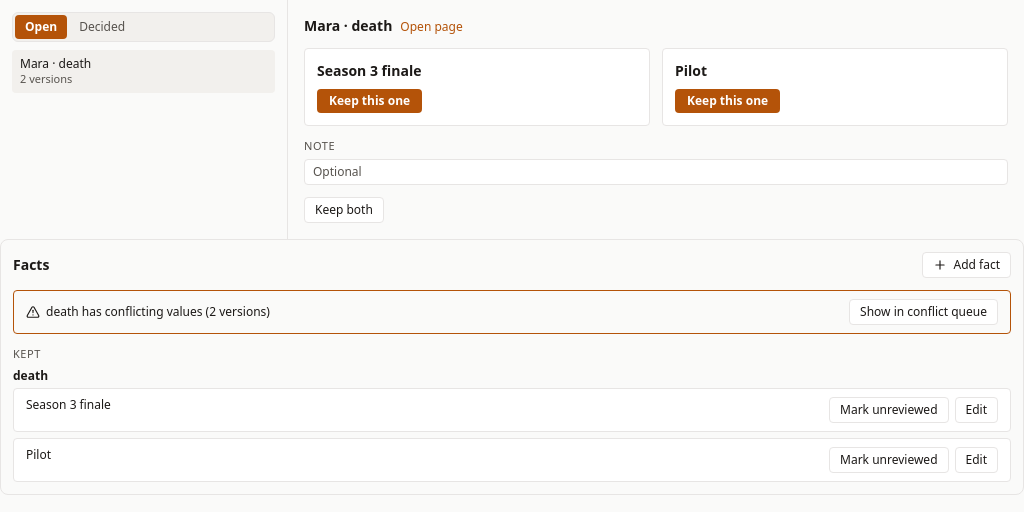
ConflictQueue › keeps both with a note and the entity page says so
The width and height of the screenshot is (1024, 512).
In the field labelled "Note": (656, 172) top-left (304, 158), bottom-right (1008, 184), type "branch"
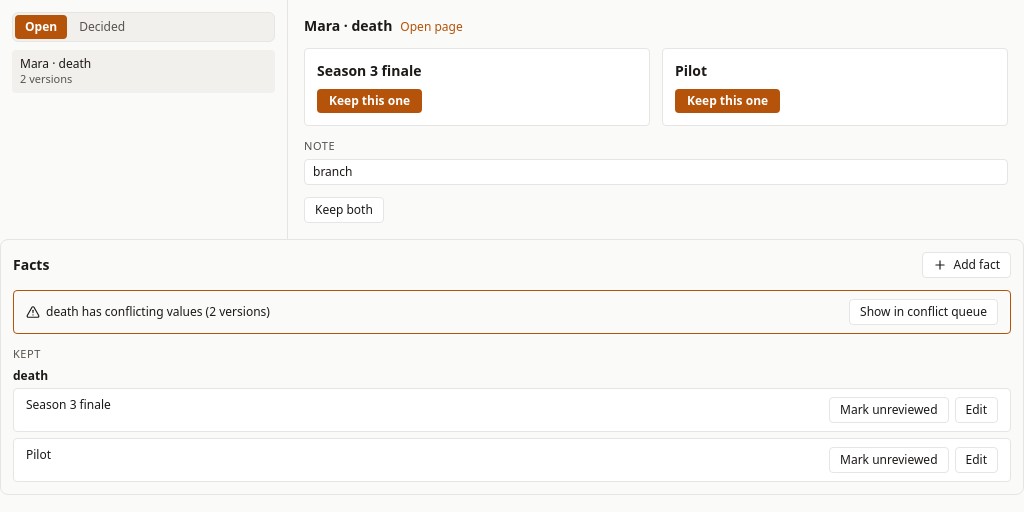
Click the button "Keep both": (344, 210) top-left (304, 196), bottom-right (384, 222)
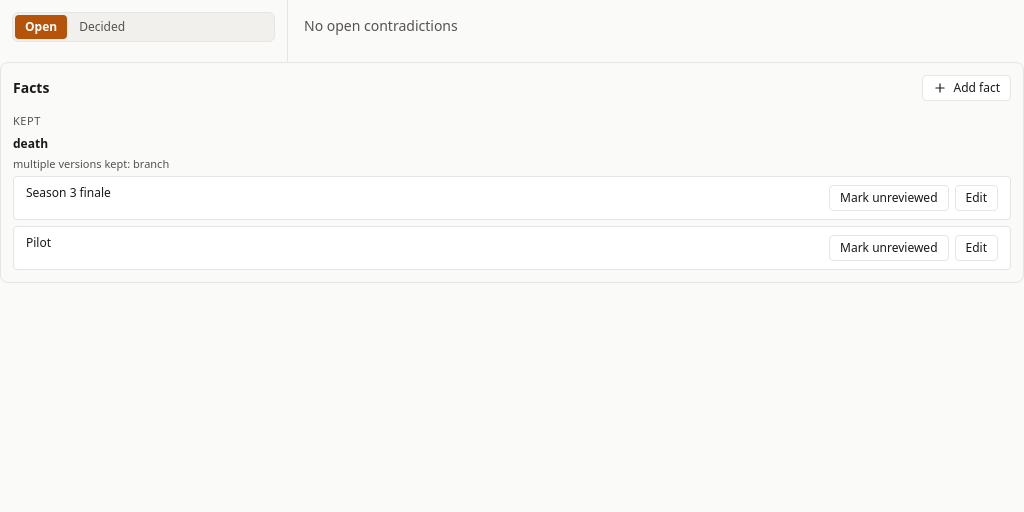
Check: the text "No open contradictions" is shown, box top-left (304, 16), bottom-right (458, 35)
Check: the text "multiple versions kept: branch" is shown, box top-left (13, 156), bottom-right (169, 170)
